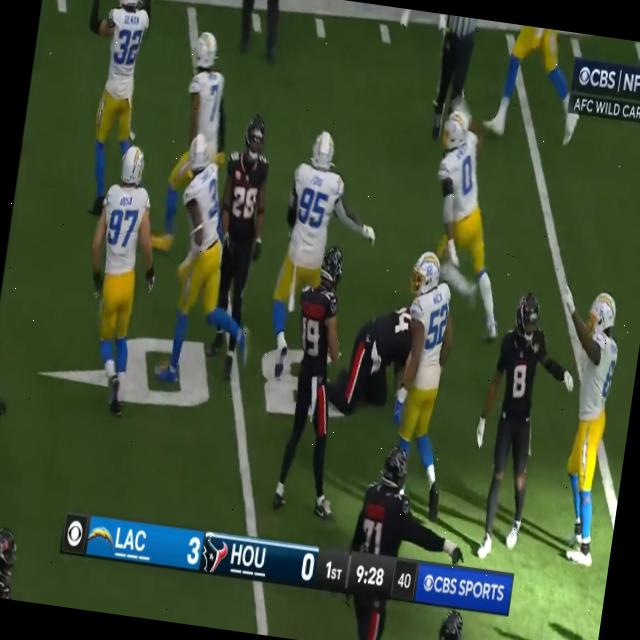Player: (381, 234, 475, 527), (260, 114, 356, 388), (270, 244, 360, 522), (76, 143, 166, 420), (548, 279, 628, 572), (198, 118, 282, 390), (153, 132, 240, 388), (472, 290, 557, 550), (80, 0, 157, 204), (424, 98, 501, 272), (350, 436, 420, 554), (338, 298, 409, 408), (180, 29, 228, 150)
